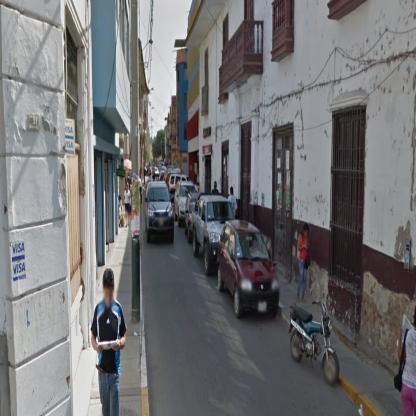Moto: (290, 303, 341, 389)
Peaton: (91, 269, 127, 416), (296, 224, 312, 304), (124, 184, 132, 228)
Pista: (144, 311, 365, 416)
Vehiculo: (218, 219, 282, 321), (193, 195, 236, 276), (145, 182, 175, 244), (175, 182, 200, 229)
